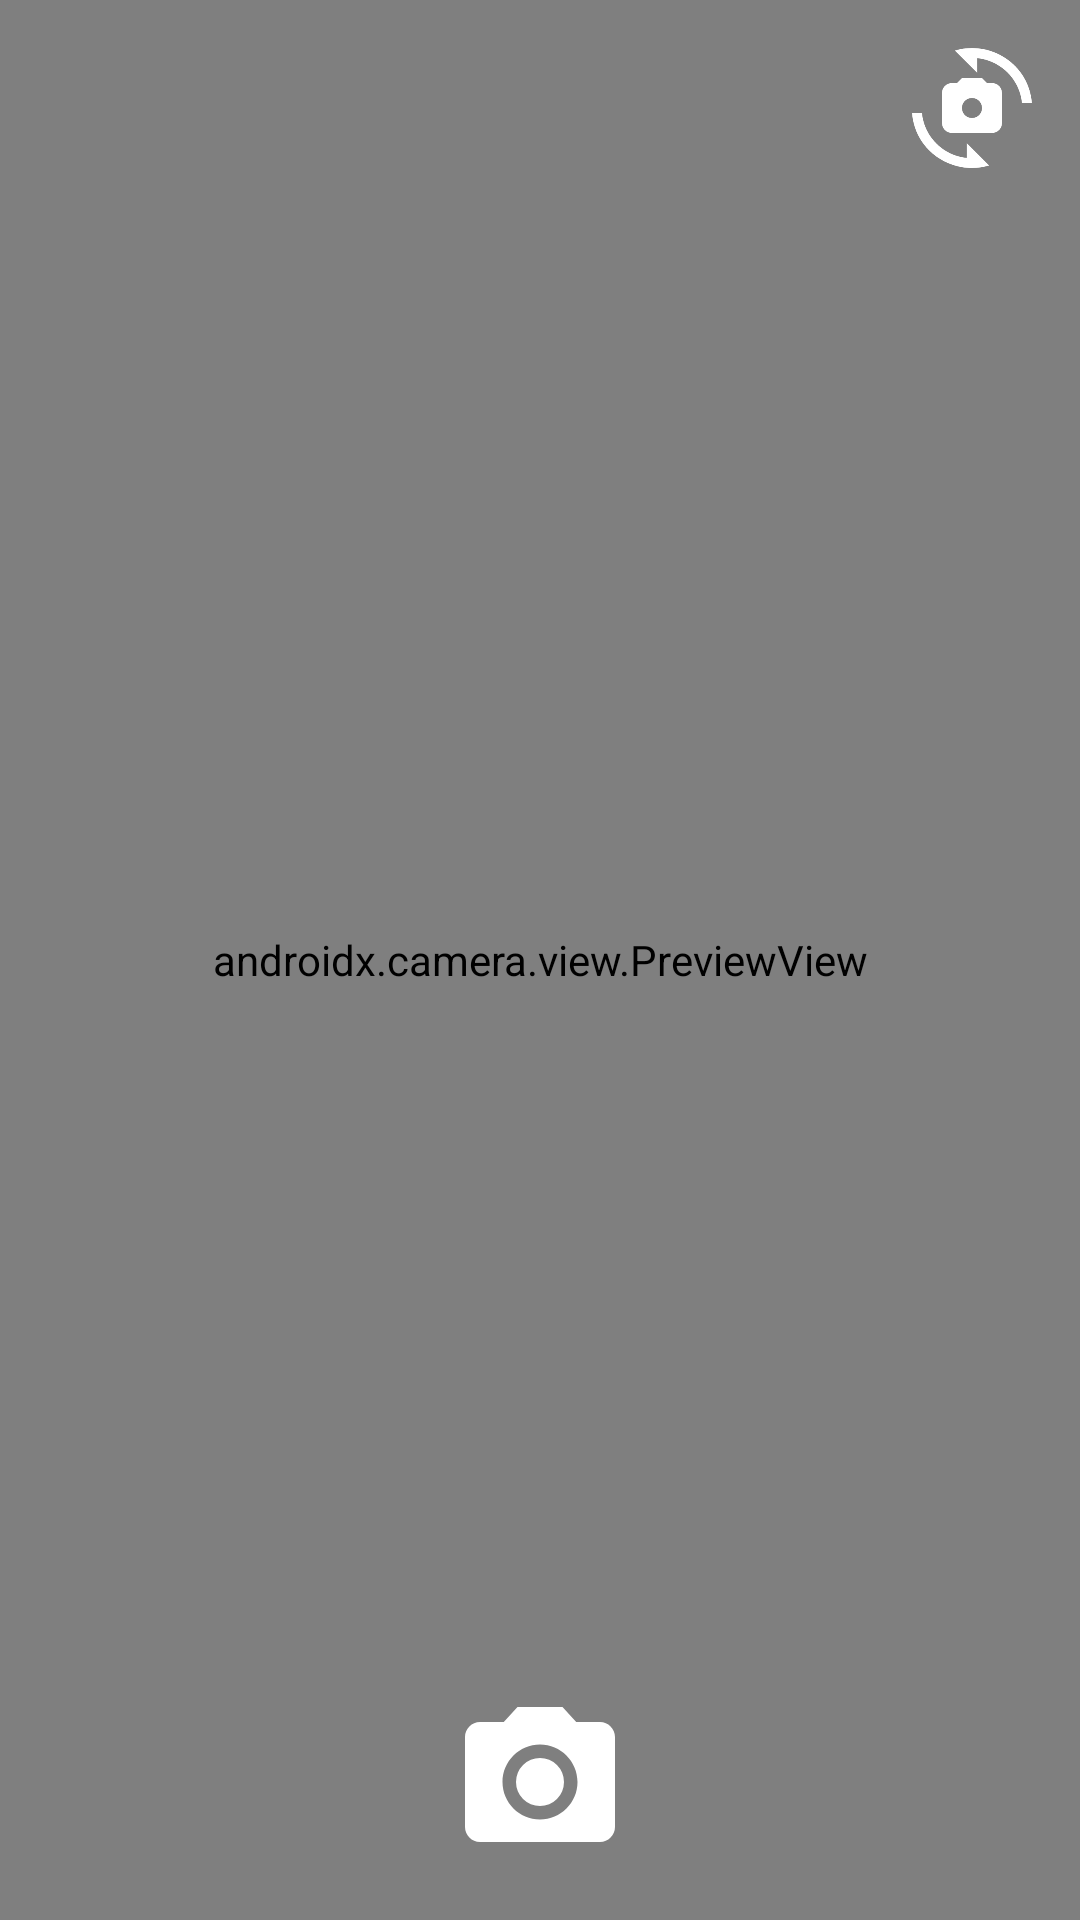

Screen size 1080px x 1920px. Icon name, then its box in pixels as bbox=[x1, y1, x2, y2]:
cameraswitch: bbox=[912, 48, 1032, 168]
